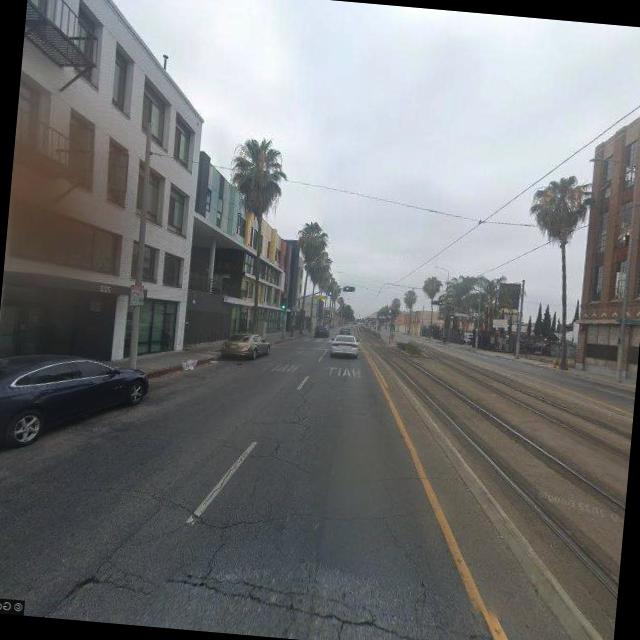crack: (81, 473, 483, 640)
